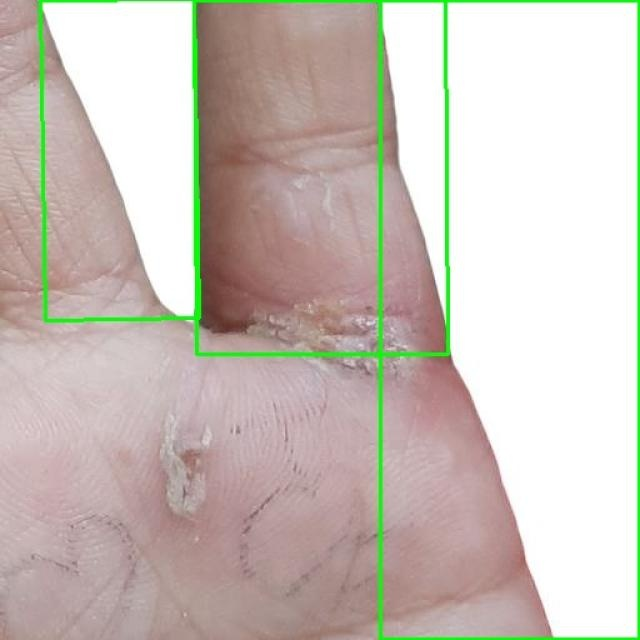Scabies: (380, 0, 639, 639), (195, 0, 448, 355), (41, 0, 199, 321)
